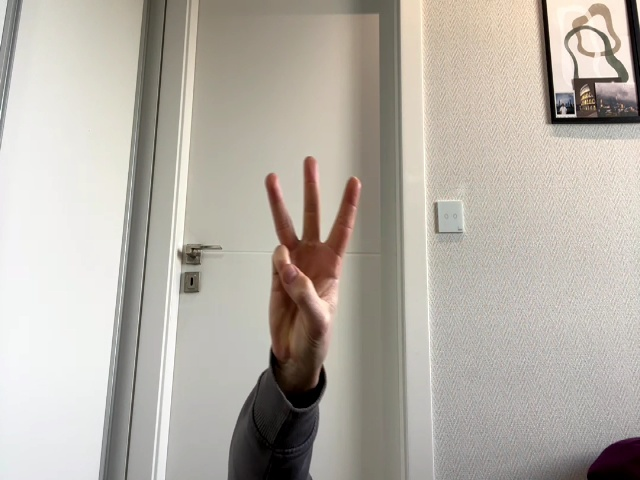W: (265, 156, 361, 363)
